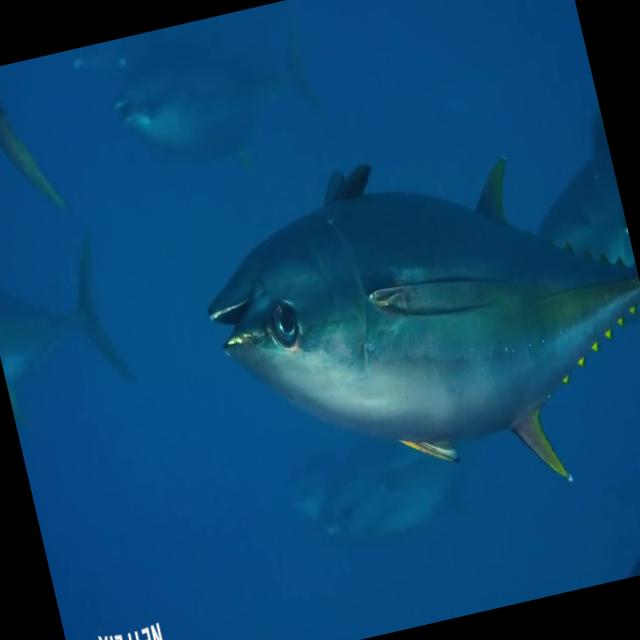fish: (177, 95, 640, 568), (102, 11, 352, 206), (0, 200, 141, 430), (302, 422, 479, 580), (0, 59, 65, 246)
